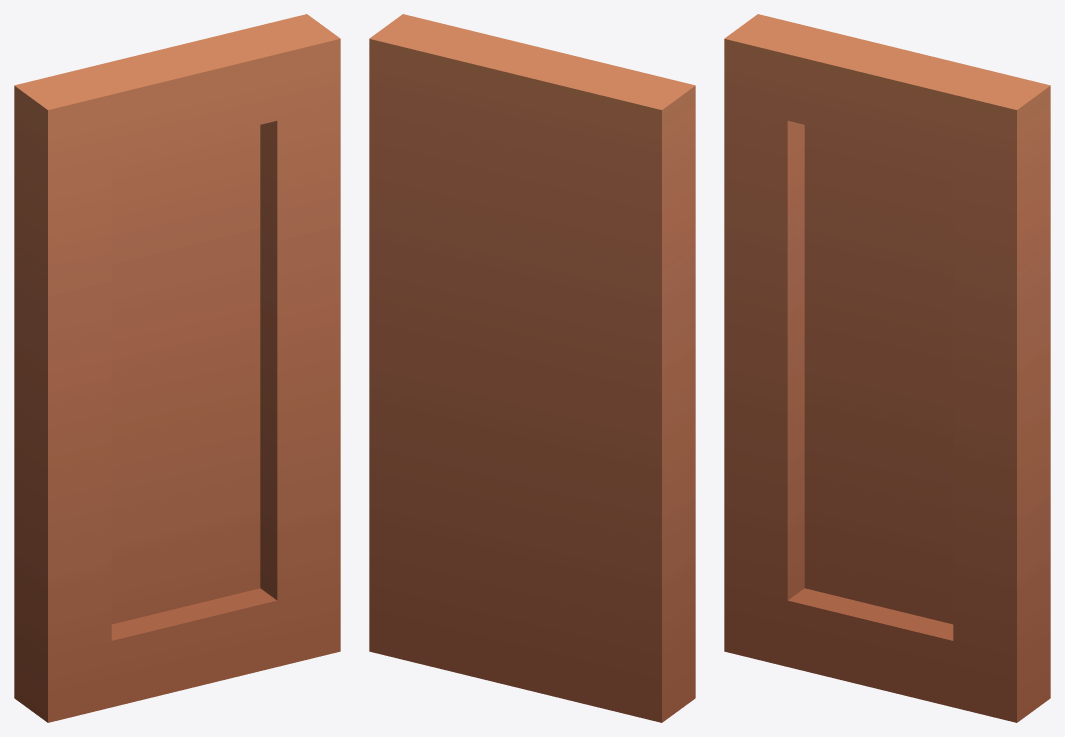
The model's file is dorr.glb.
3 views of the same model, side by side, from view 1: azimuth 30°, elevation 25°; view 2: azimuth 150°, elevation 25°; view 3: azimuth 330°, elevation 25° (orthographic).
Parts seen in each view (by area): view 1: door-brown; view 2: door-brown; view 3: door-brown.
Boxes of the visible parts, x1,y1,x2,y2 form: door-brown: [14, 14, 340, 722]; door-brown: [369, 14, 695, 722]; door-brown: [724, 14, 1050, 722].
Bounding box in the file's own units: 0.25 × 0.5 × 0.05.
1 material, 1 textured.
